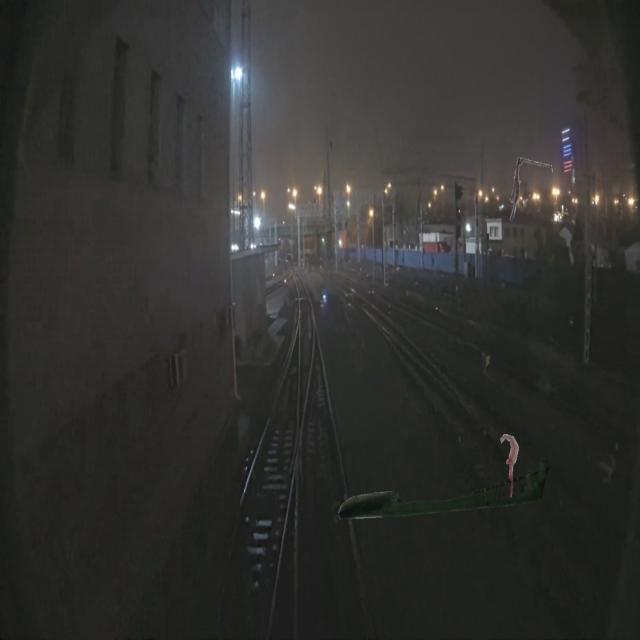floating object: (337, 455, 556, 519), (509, 158, 553, 222), (500, 433, 519, 497)
